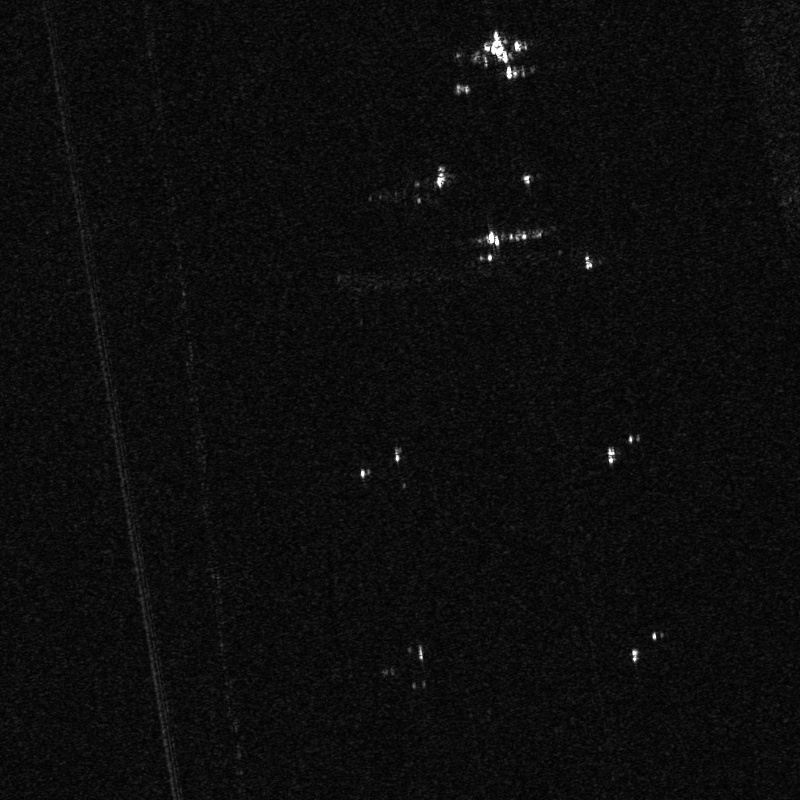A220: (471, 23, 533, 82)
